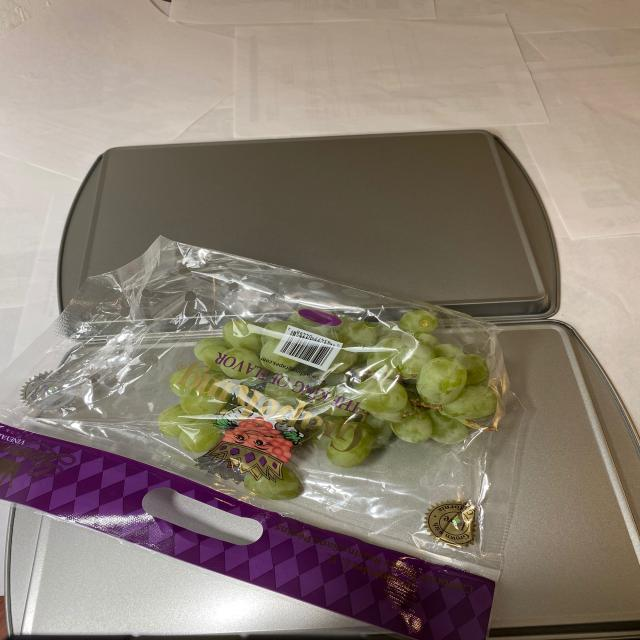grapes: (165, 311, 522, 482)
